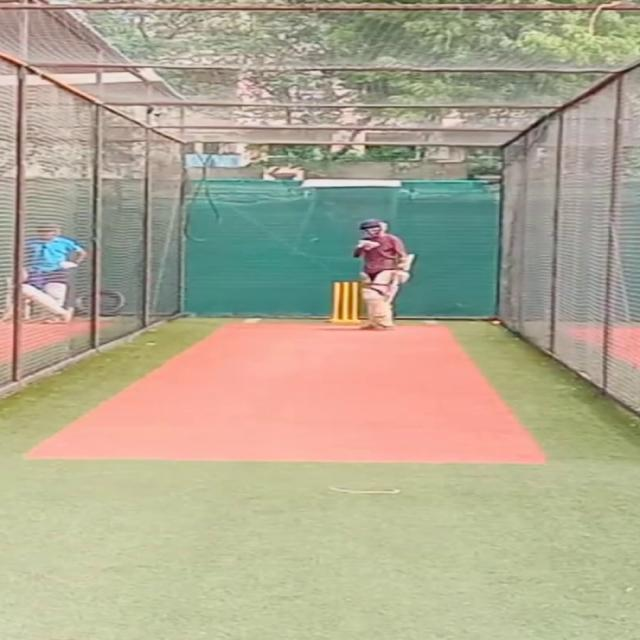stump: (327, 281, 360, 325)
